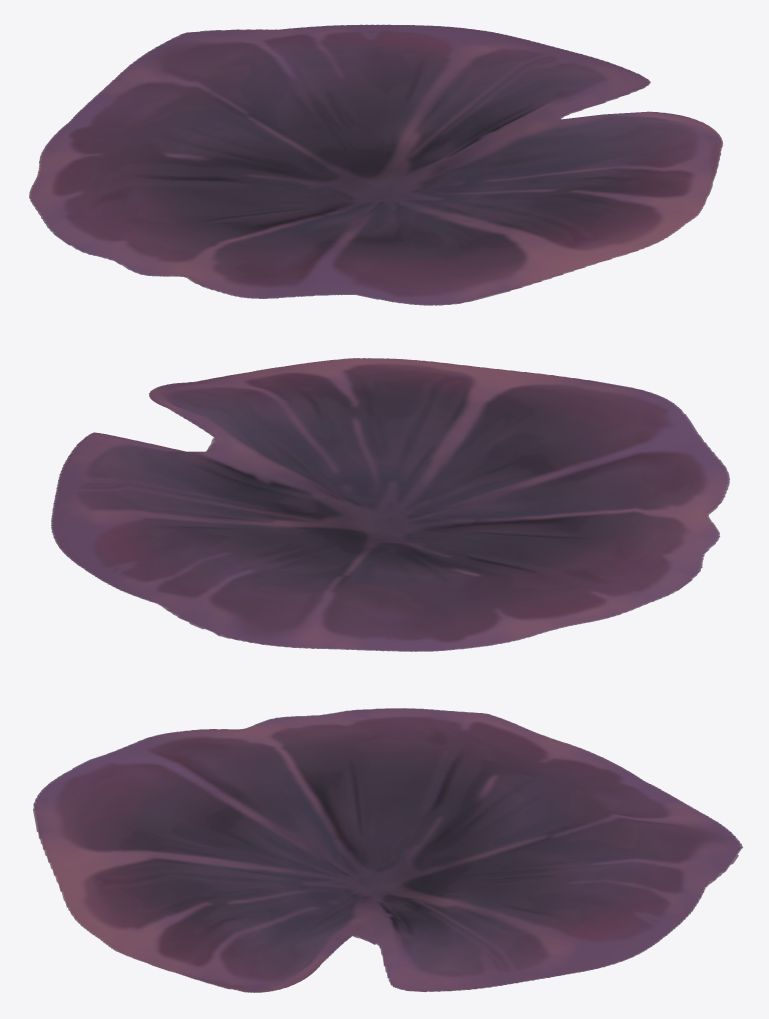
The model's file is PROP_LilyPad_01_block.fbx.
The picture shows the model from 3 angles, top to bottom: view 1: azimuth 30°, elevation 25°; view 2: azimuth 150°, elevation 25°; view 3: azimuth 270°, elevation 25°; orthographic projection.
Parts seen in each view (by area): view 1: PROP_LilyPad_01_block; view 2: PROP_LilyPad_01_block; view 3: PROP_LilyPad_01_block.
Part boxes in pixels (<box>): PROP_LilyPad_01_block: <box>29,24,723,305</box>; PROP_LilyPad_01_block: <box>51,358,729,651</box>; PROP_LilyPad_01_block: <box>33,708,743,992</box>.
Bounding box in the file's own units: 145 × 10.45 × 146.
Materials: 1 (1 with a texture image).
